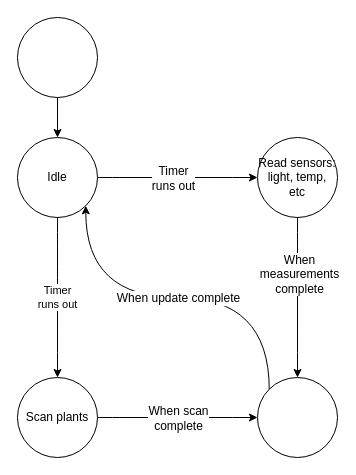
Image size: 356x475. Some labels were removed from this diagram. Here are the shapes that lost their labels. From the top down, the centre of each, then its label:
the point at 57,57: Start
the point at 297,417: Update: flowrate, lights, nutrients, etc...
